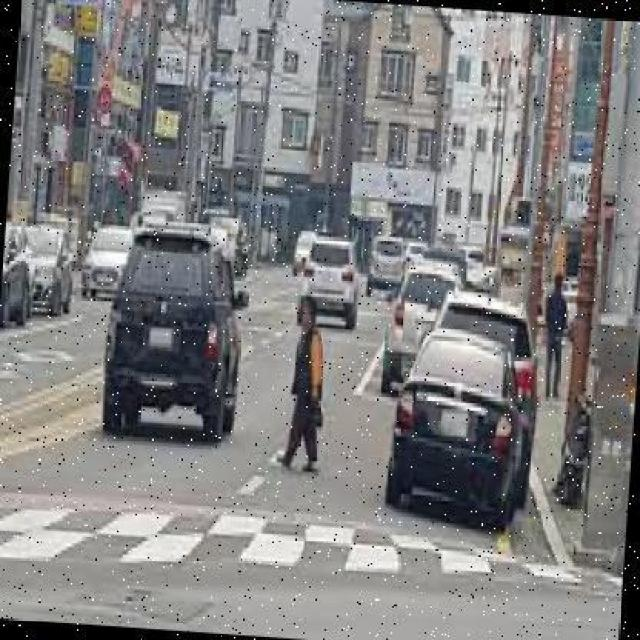Person: (278, 294, 331, 480), (542, 270, 570, 401)
